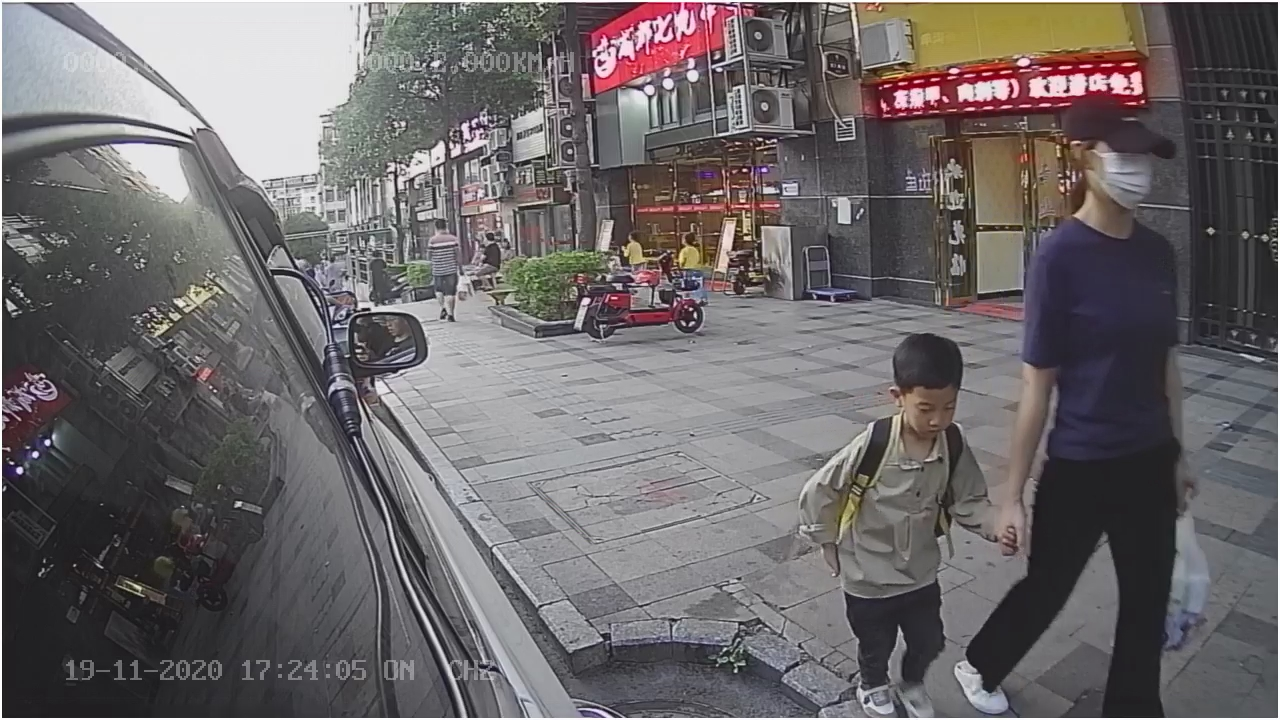person: (959, 91, 1202, 718), (789, 328, 1004, 718)
